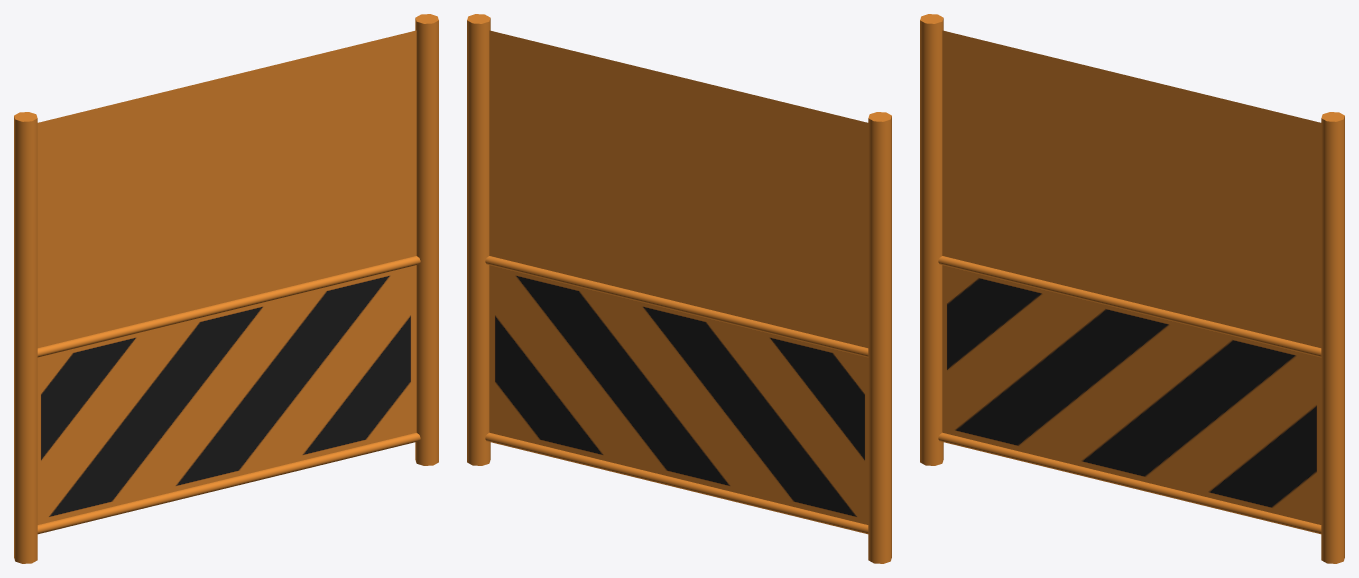
File: OB_Fence.fbx
3 renders of one model, left to right at view 1: azimuth 30°, elevation 25°; view 2: azimuth 150°, elevation 25°; view 3: azimuth 330°, elevation 25°, orthographic.
Parts seen in each view (by area): view 1: pCylinder8; view 2: pCylinder8; view 3: pCylinder8.
Part boxes in pixels (<box>): pCylinder8: <box>14,14,438,563</box>; pCylinder8: <box>467,14,891,563</box>; pCylinder8: <box>920,14,1344,563</box>.
Bounding box in the file's own units: 200 × 200 × 10.
